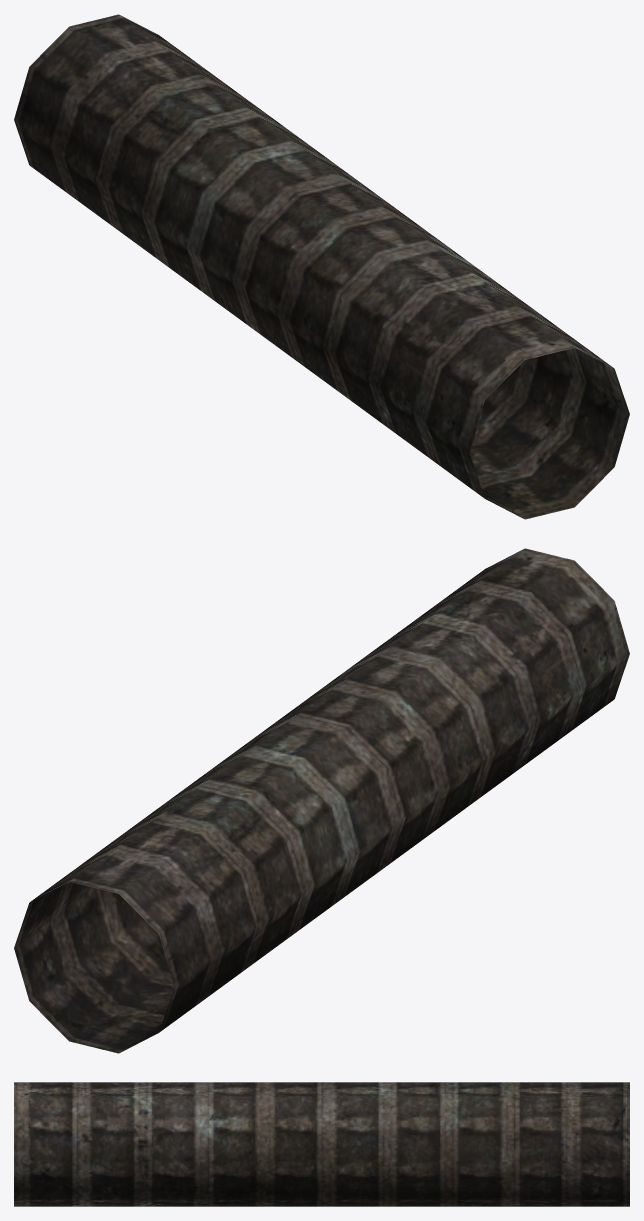
File: leech_cable_short.dae
The picture shows the model from 3 angles, top to bottom: view 1: azimuth 30°, elevation 25°; view 2: azimuth 150°, elevation 25°; view 3: azimuth 270°, elevation 25°; orthographic projection. The views are drawn at different scales.
Parts seen in each view (by area): view 1: tentacle_leech_cable_short; view 2: tentacle_leech_cable_short; view 3: tentacle_leech_cable_short.
Part boxes in pixels (x1,y1,x2,y2): tentacle_leech_cable_short: [14, 14, 629, 519]; tentacle_leech_cable_short: [14, 548, 629, 1053]; tentacle_leech_cable_short: [14, 1082, 629, 1206].
Size of the model in its own units: 0.2031 by 0.1932 by 1.
